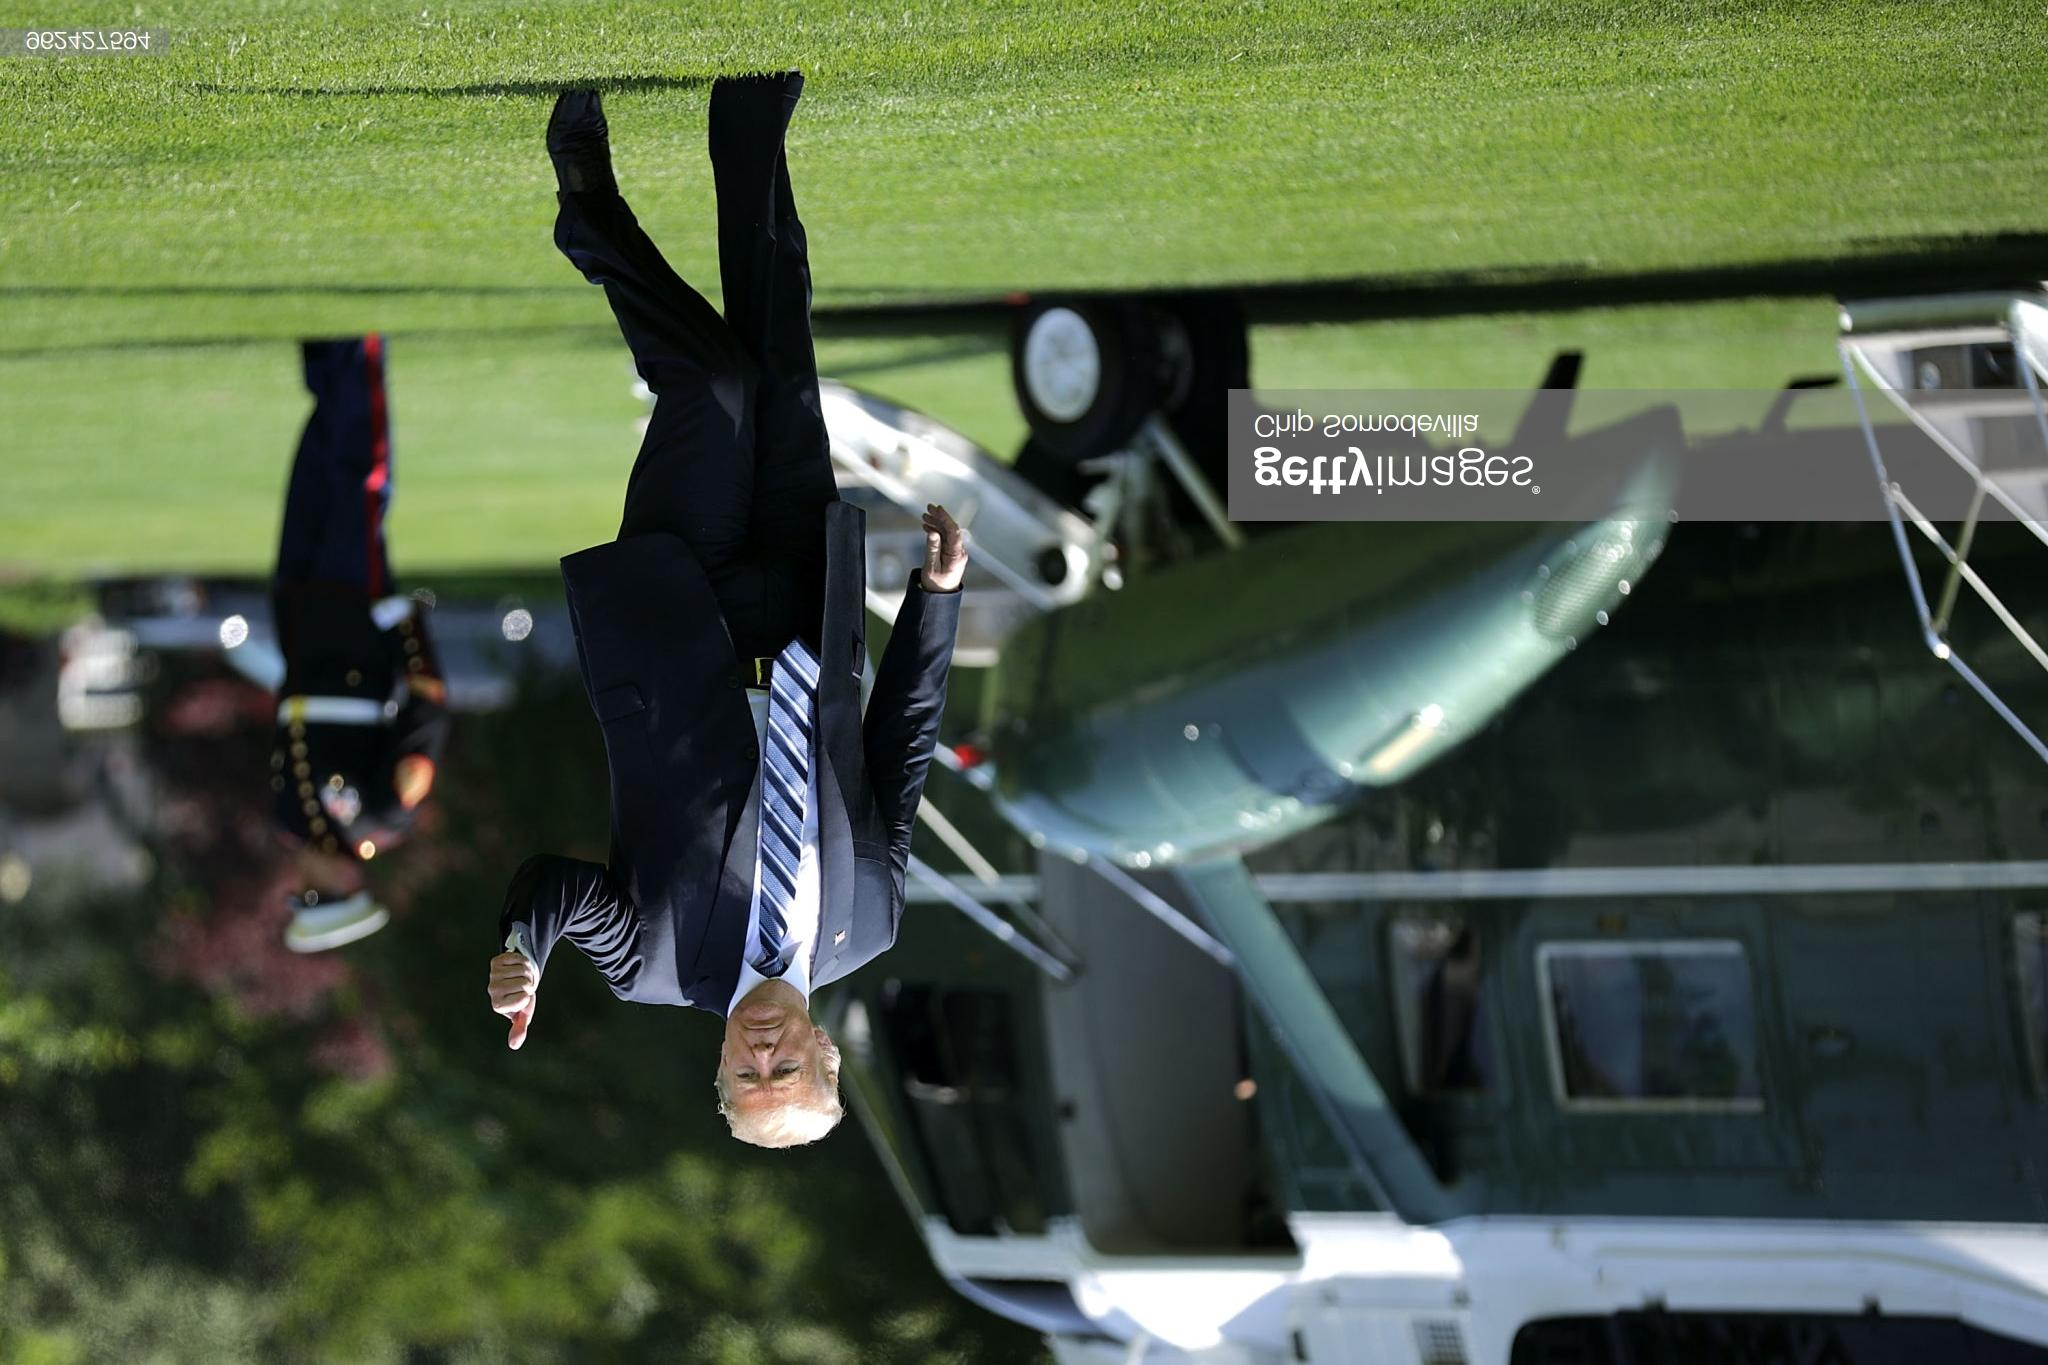thumbsdown: (487, 954, 531, 1053)
